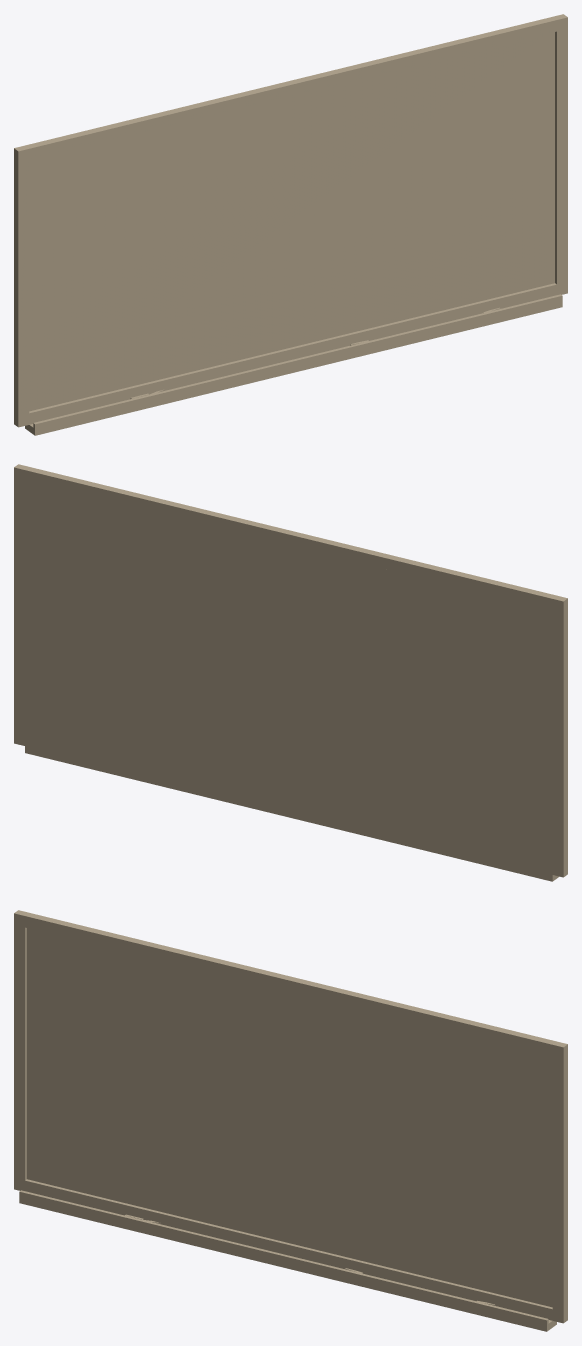
The model's file is blackboard.glb.
3 renders of one model, top to bottom at view 1: azimuth 30°, elevation 25°; view 2: azimuth 150°, elevation 25°; view 3: azimuth 330°, elevation 25°, orthographic.
Visible parts, largest first — view 1: blackboard; view 2: blackboard; view 3: blackboard.
Boxes of the visible parts, x1,y1,x2,y2 form: blackboard: (14, 14, 567, 435); blackboard: (14, 464, 567, 881); blackboard: (14, 910, 567, 1331).
Bounding box in the file's own units: 2.5 × 1.23 × 0.08.
